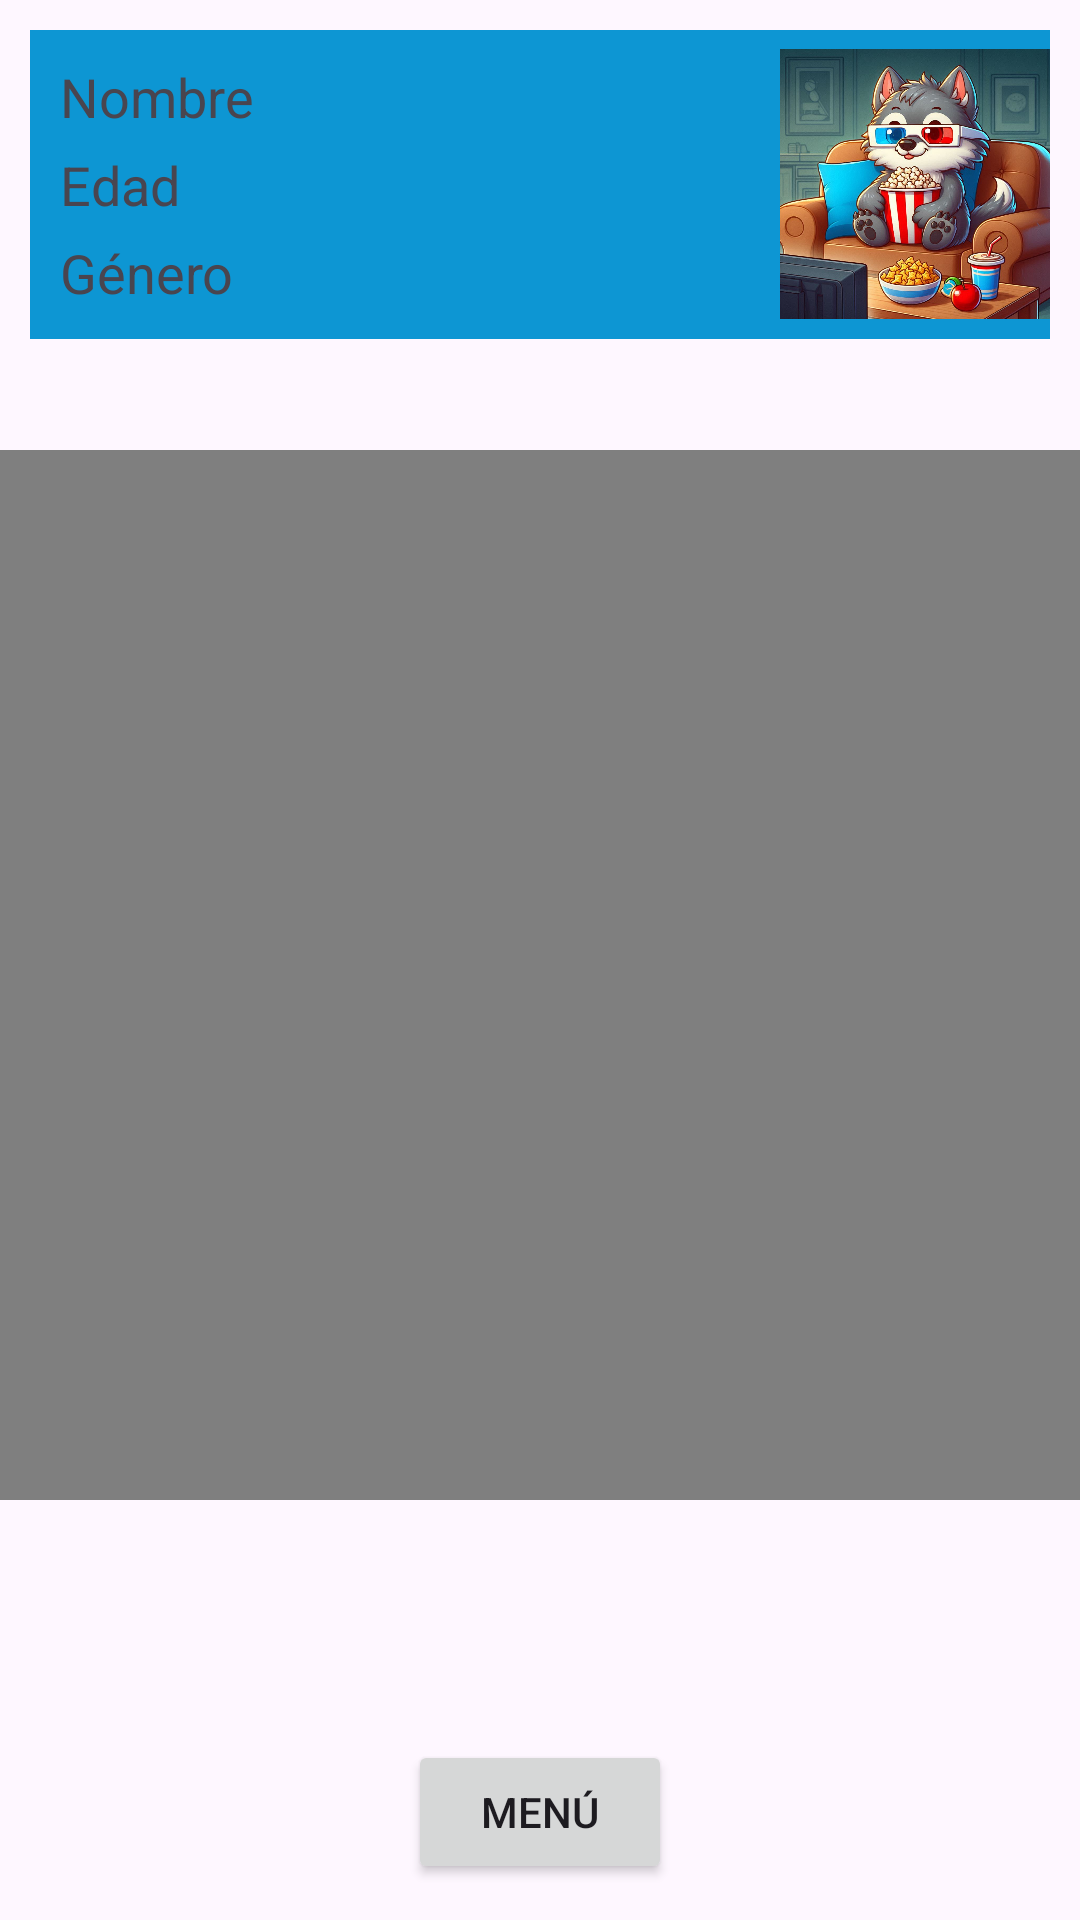

Icon bounding boxes for this 1080 × 1920 phone screenshot, format (x1, y1, x2, y2):
lobo peli: (780, 49, 1050, 319)
